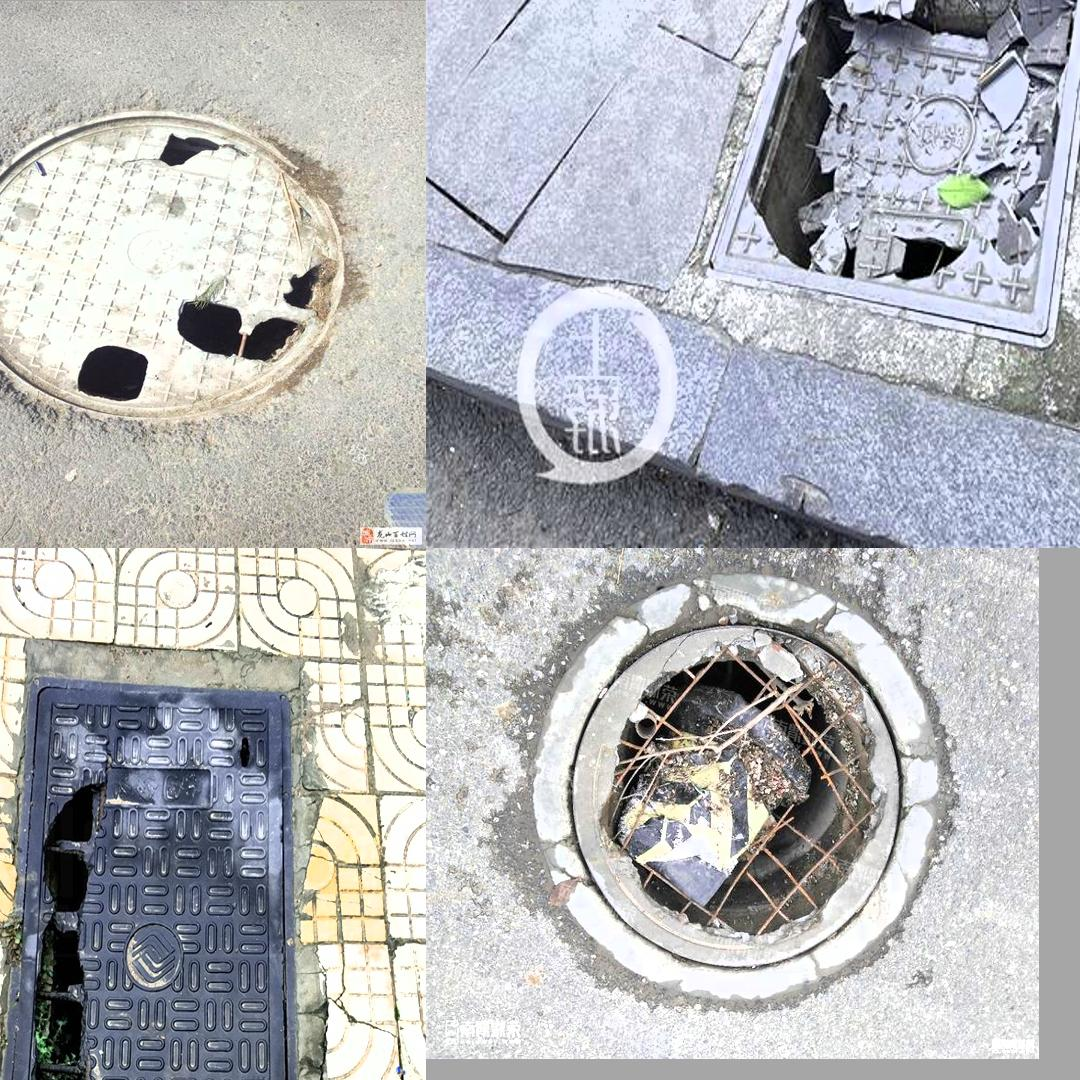broke: (504, 567, 961, 1013), (648, 0, 1080, 330), (0, 101, 373, 431), (0, 673, 299, 1080)
